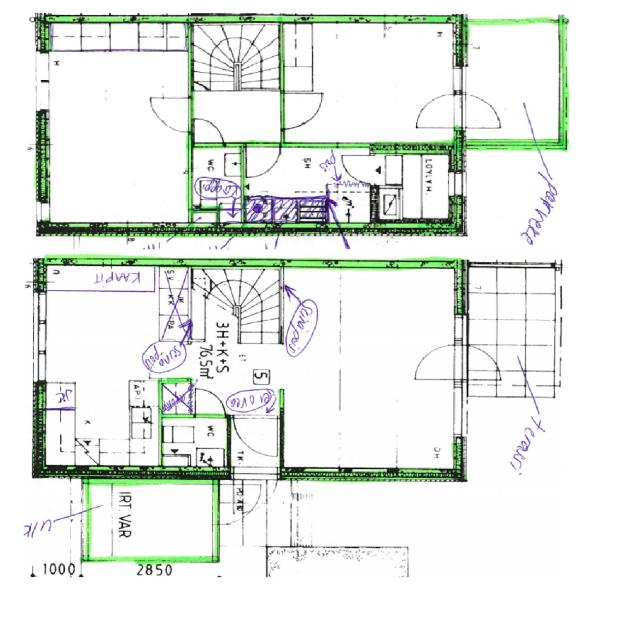door: (233, 466, 278, 519), (212, 484, 263, 523), (414, 344, 468, 380), (454, 344, 507, 380), (416, 94, 468, 128), (454, 94, 505, 128), (279, 92, 325, 128), (149, 97, 193, 132), (338, 156, 379, 184), (245, 143, 278, 176), (195, 387, 225, 418), (194, 118, 223, 148)
